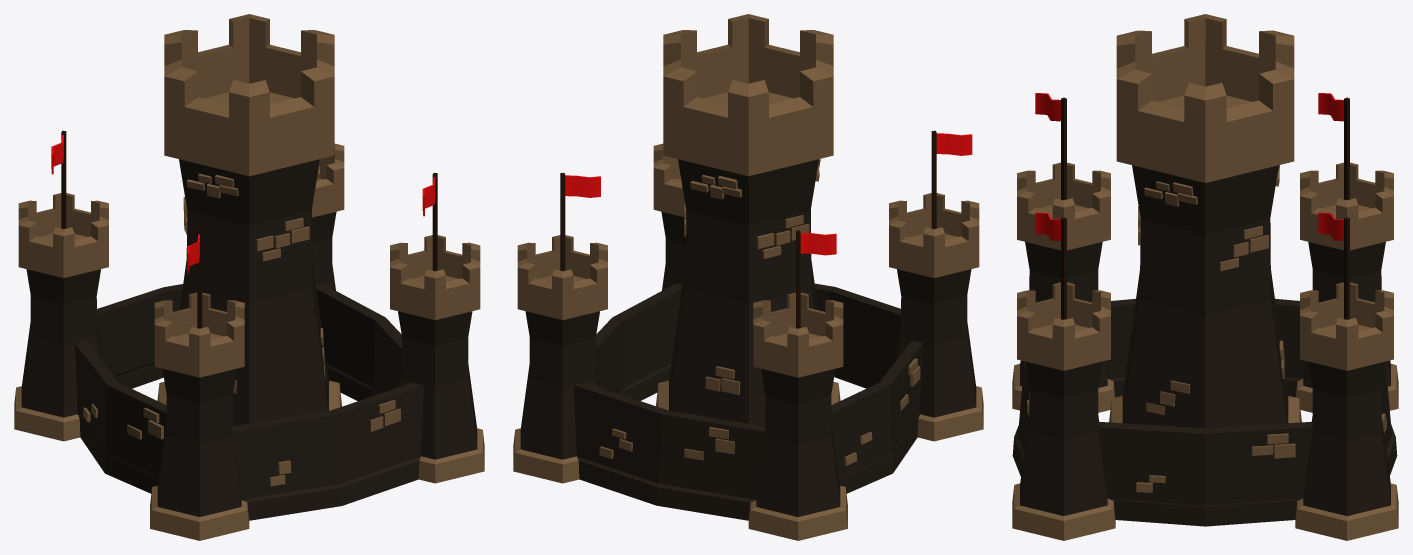
The model's file is Main_Tower.FBX.
The picture shows the model from 3 angles, left to right: view 1: azimuth 30°, elevation 25°; view 2: azimuth 150°, elevation 25°; view 3: azimuth 270°, elevation 25°; orthographic projection. The views are drawn at different scales.
Visible parts, largest first — view 1: Main_Tower; view 2: Main_Tower; view 3: Main_Tower.
Boxes of the visible parts, <box> form: Main_Tower: <box>14,14,484,540</box>; Main_Tower: <box>513,14,983,540</box>; Main_Tower: <box>1012,14,1398,540</box>.
Bounding box in the file's own units: 56.86 × 63.03 × 54.6.
